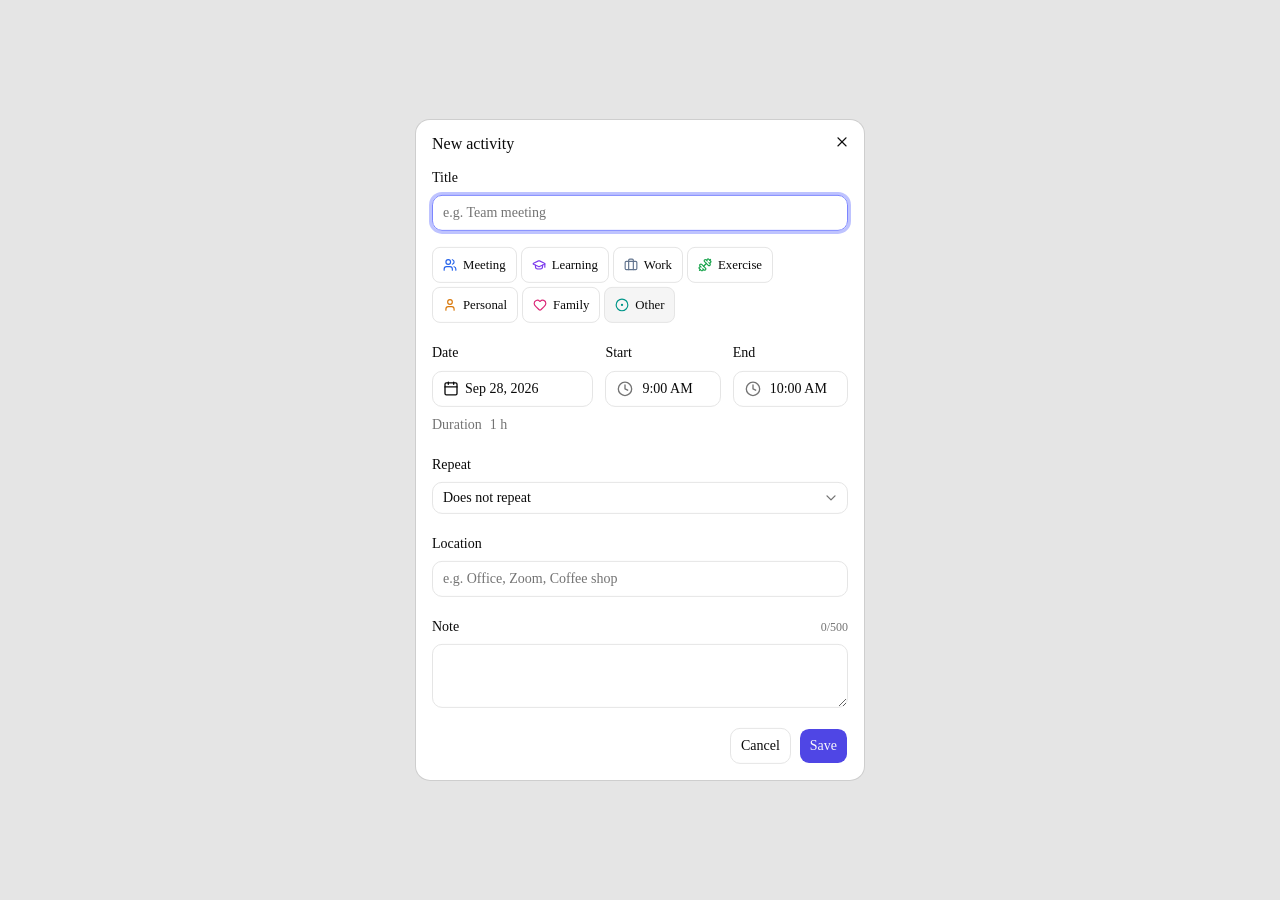
Test: ActivityFormDialog › needs the end after the start, and at least 5 minutes
Type "Call" into the field labelled "Title" at coordinates (640, 213), box [432,195,848,231]
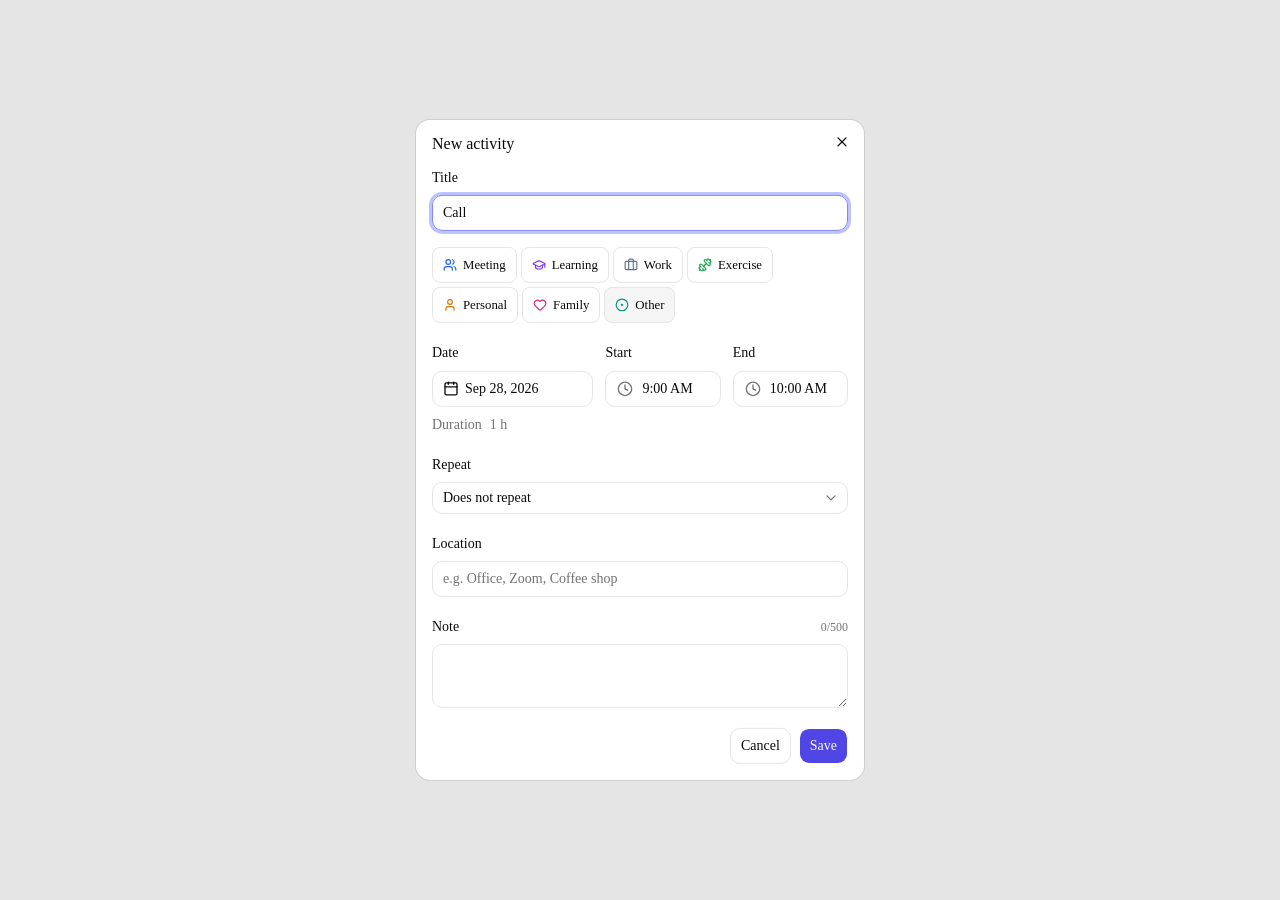
Replace the text in the field labelled "End" with "08:30" at coordinates (790, 388), box [733,370,848,406]
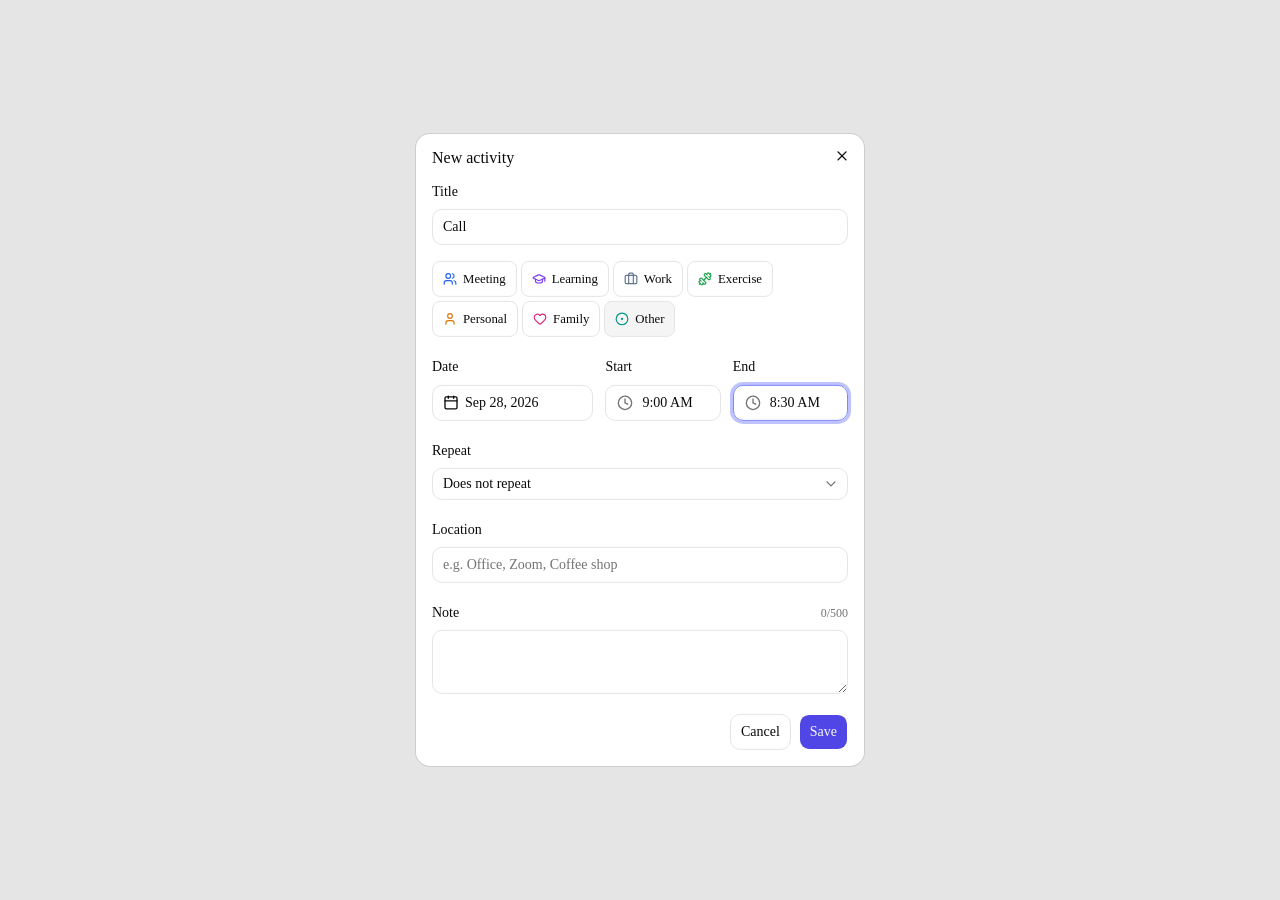
Click the button "Save" at coordinates (823, 732), box [799,714,848,750]
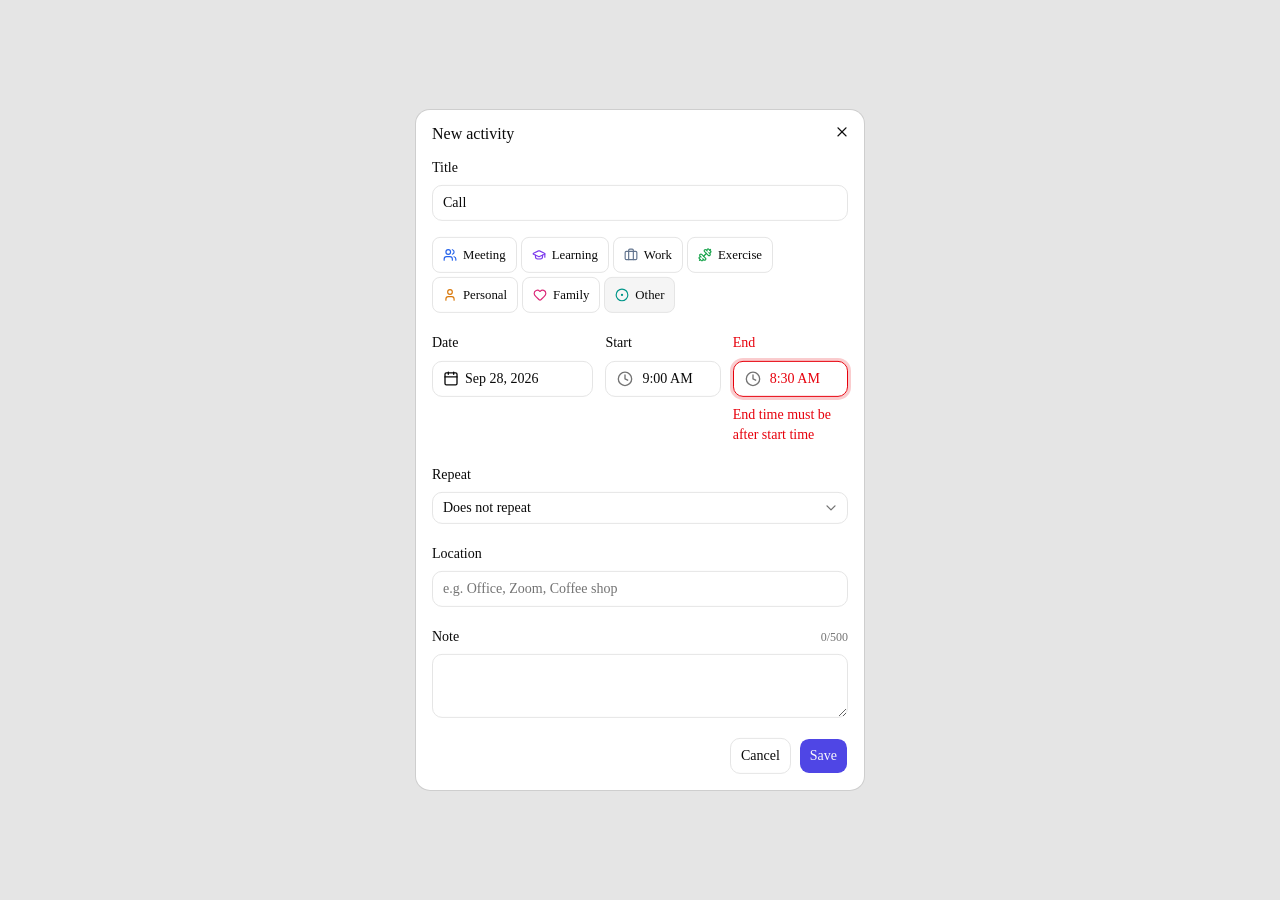
Now the text "End time must be after start time" is shown, box [733,404,848,444]
Replace the text in the field labelled "End" with "09:03" at coordinates (790, 378), box [733,360,848,396]
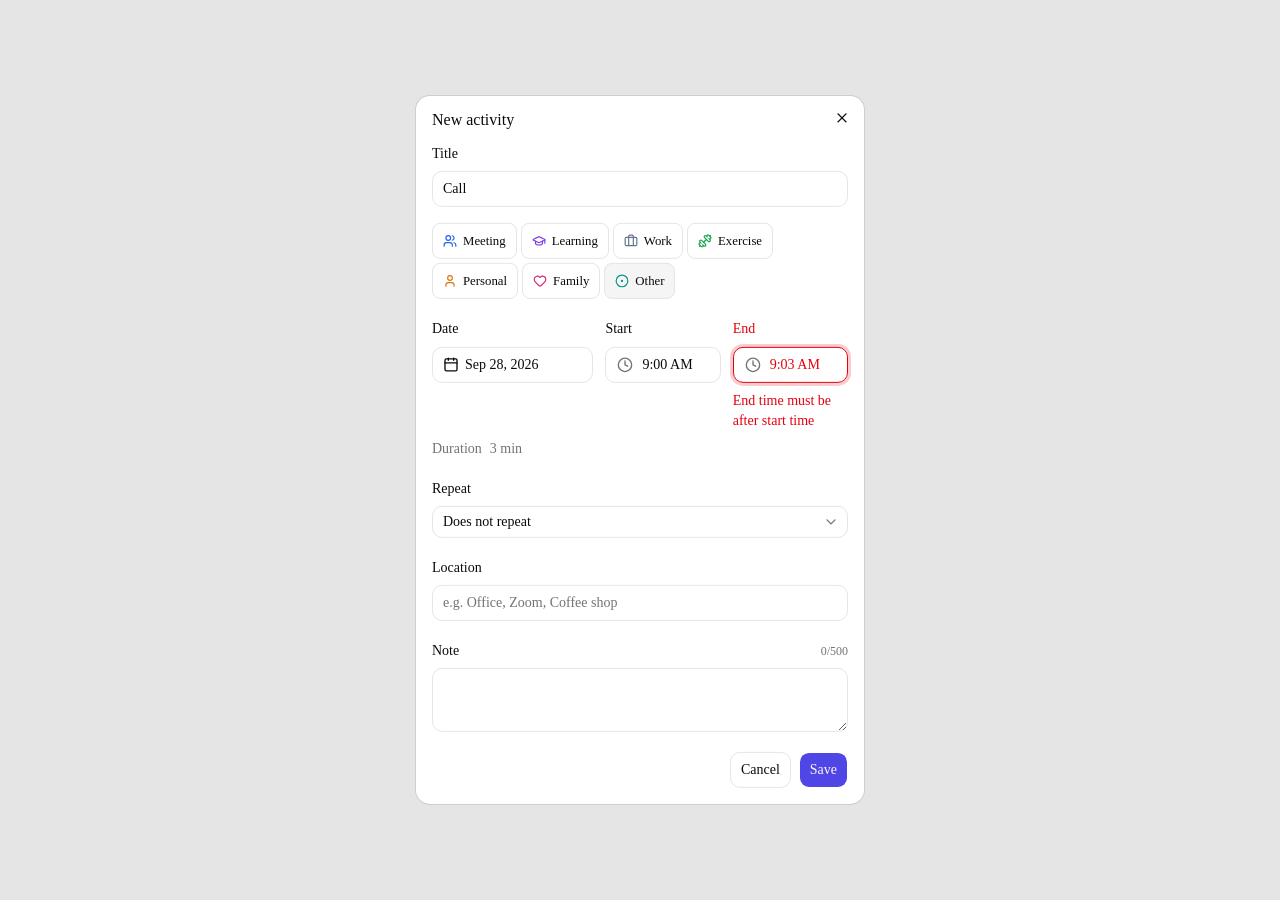
Click the button "Save" at coordinates (823, 770), box [799,752,848,788]
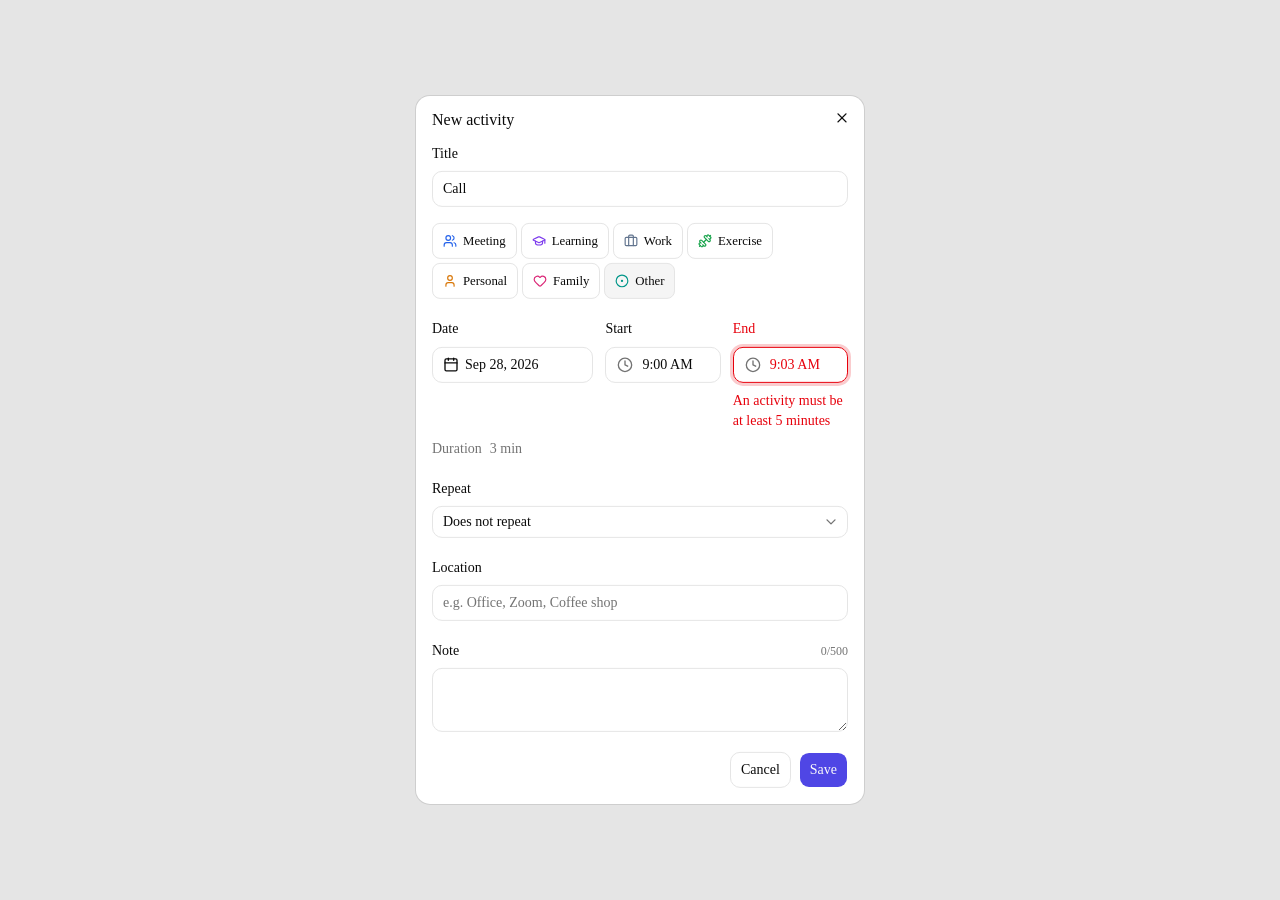
Now the text "An activity must be at least 5 minutes" is shown, box [733,390,848,430]
